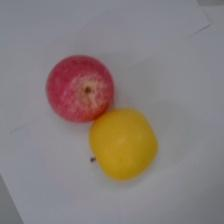red: (47, 55, 115, 123)
yellow: (89, 109, 158, 182)
